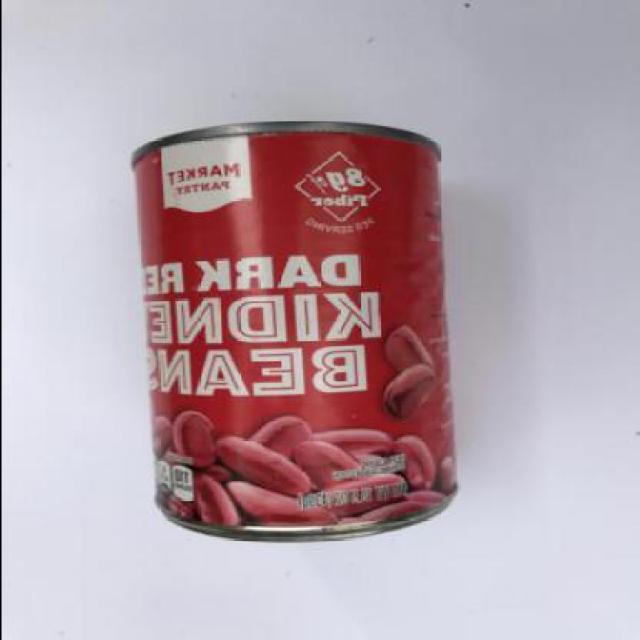METAL: (132, 123, 454, 545)
